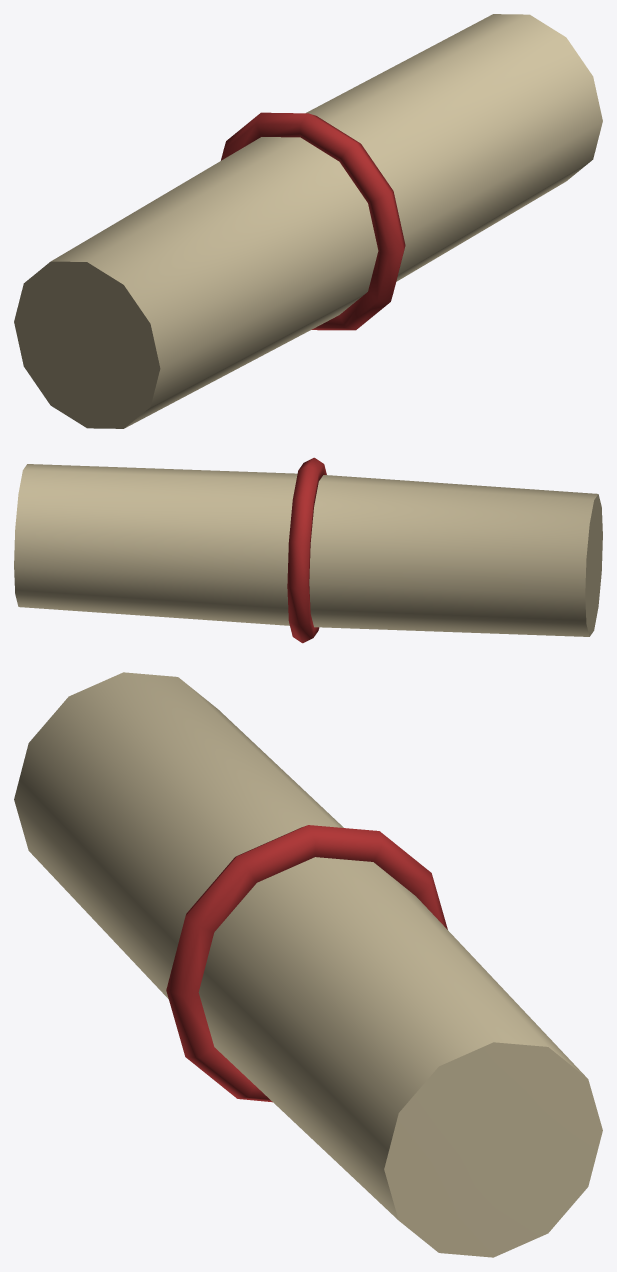
The model's file is item_ic_q_note.glb.
The picture shows the model from 3 angles, top to bottom: view 1: azimuth 30°, elevation 25°; view 2: azimuth 150°, elevation 25°; view 3: azimuth 270°, elevation 25°; orthographic projection. The views are drawn at different scales.
Parts seen in each view (by area): view 1: item_ic_q_note_main; view 2: item_ic_q_note_main; view 3: item_ic_q_note_main.
Part boxes in pixels (x1,y1,x2,y2): item_ic_q_note_main: (14, 14, 602, 428); item_ic_q_note_main: (14, 457, 602, 643); item_ic_q_note_main: (14, 672, 602, 1257).
Size of the model in its own units: 0.2444 by 0.0778 by 0.1487.
